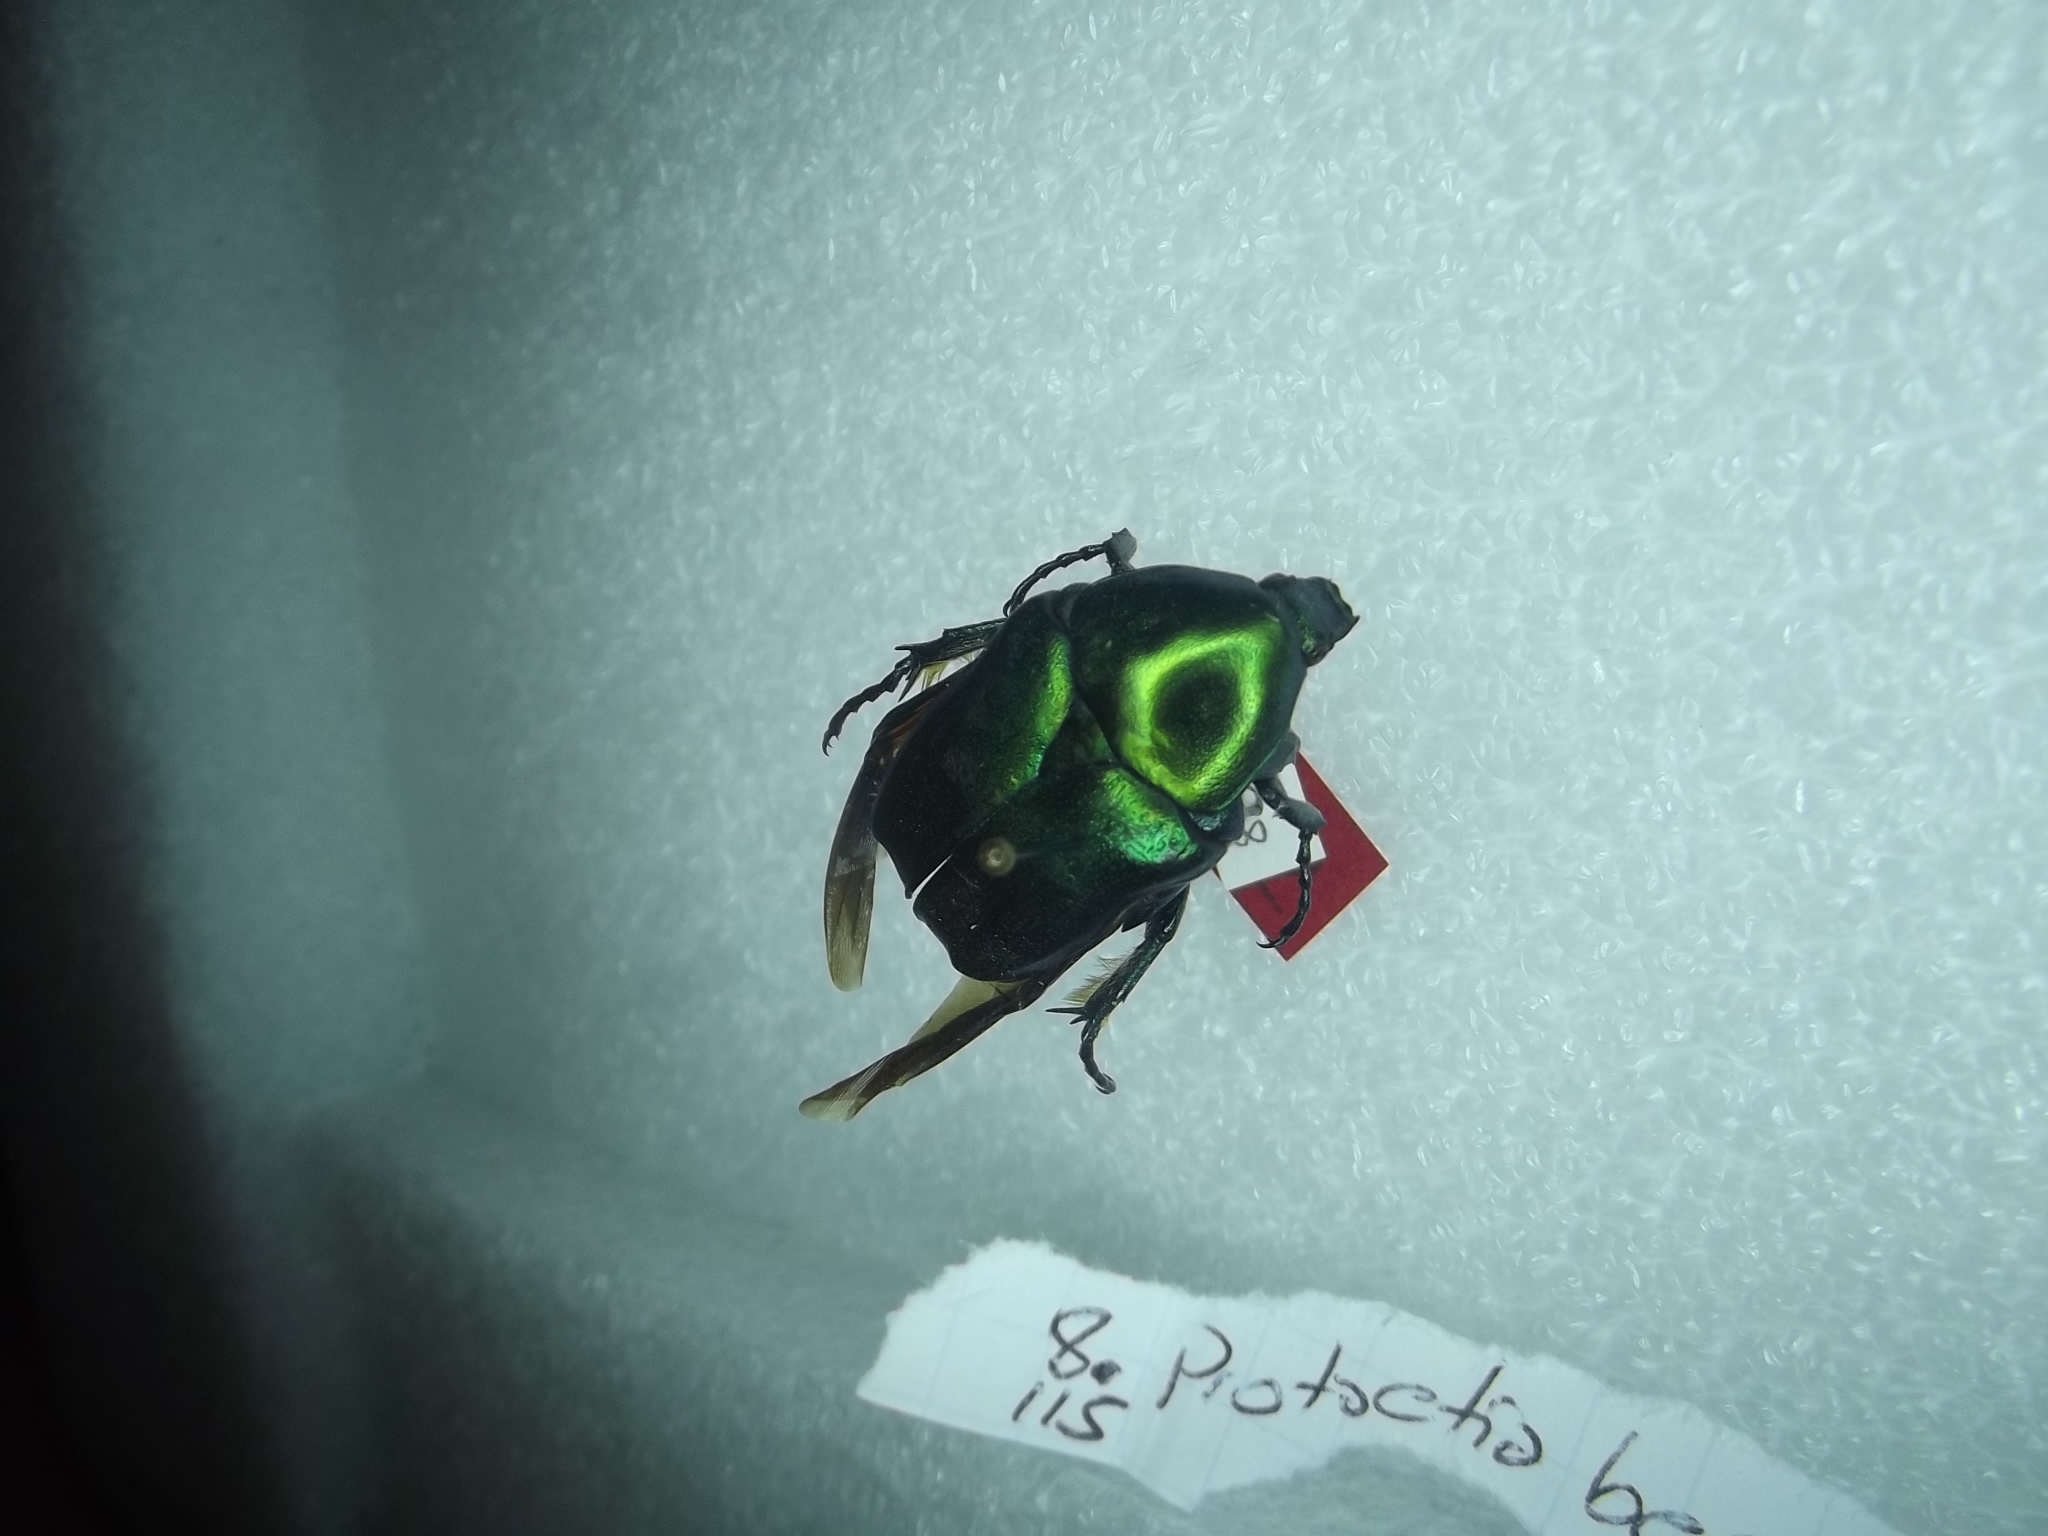Protaetia_besucheti: (755, 494, 1384, 1149)
